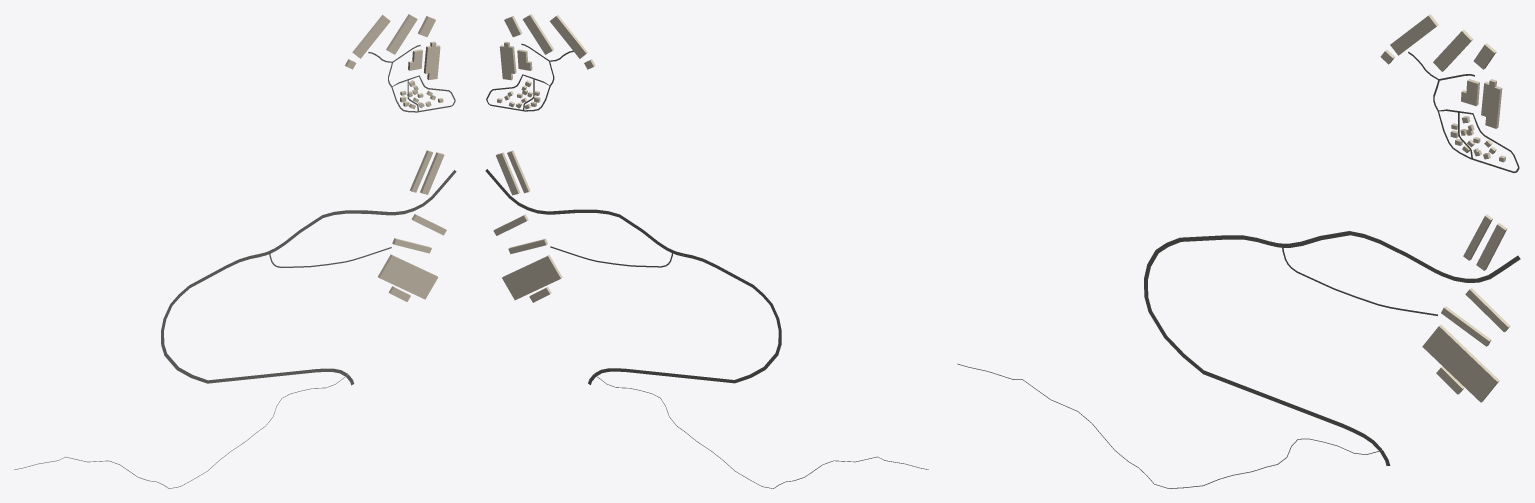
The model's file is historic-palestine-11_36_3530_3308.glb.
3 views of the same model, side by side, from view 1: azimuth 30°, elevation 25°; view 2: azimuth 150°, elevation 25°; view 3: azimuth 330°, elevation 25° (orthographic). The views are drawn at different scales.
Visible parts, largest first — view 1: Road 8994, Building_.024, Building_.006, Building_.002, Building_.004; view 2: Road 8994, Building_.024, Building_.006, Building_.002, Building_.004; view 3: Road 8994, Building_.024, Building_.002, Building_.006, Building_.004, Road .005.
Boxes of the visible parts, box(x1,y1,x2,y2) form: Road 8994: box(161, 170, 456, 383); Building_.024: box(378, 254, 438, 299); Building_.006: box(352, 15, 390, 58); Building_.002: box(424, 41, 440, 79); Building_.004: box(386, 14, 417, 54); Road 8994: box(485, 169, 781, 383); Building_.024: box(502, 255, 562, 300); Building_.006: box(549, 15, 587, 58); Building_.002: box(499, 41, 516, 80); Building_.004: box(522, 14, 554, 54); Road 8994: box(1144, 231, 1520, 450); Building_.024: box(1422, 325, 1499, 402); Building_.002: box(1481, 79, 1502, 128); Building_.006: box(1390, 14, 1438, 55); Building_.004: box(1433, 29, 1473, 71); Road .005: box(957, 363, 1381, 488).
Bounding box in the file's own units: 1124 × 1023 × 8.7.
